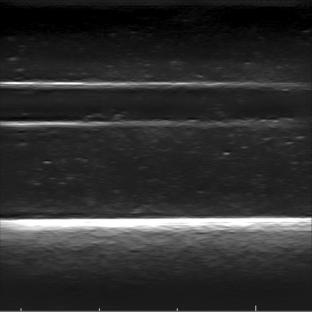vessel: (4, 79, 294, 129)
